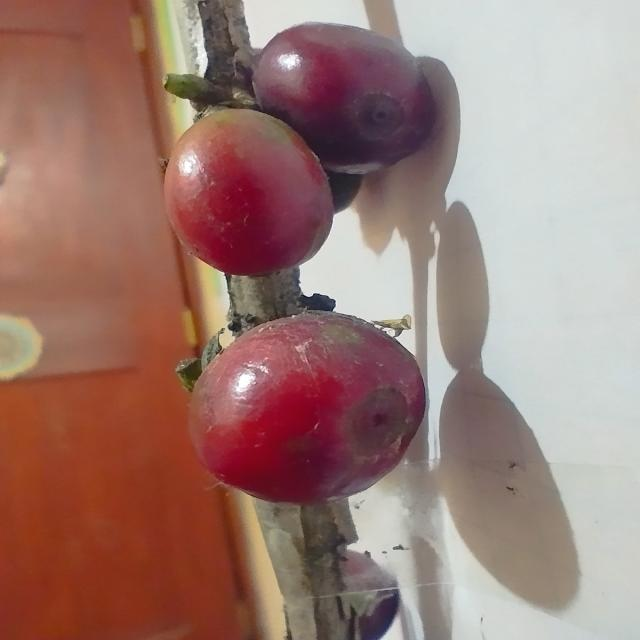Sano: (187, 314, 428, 505), (165, 108, 335, 278), (255, 23, 436, 177)
